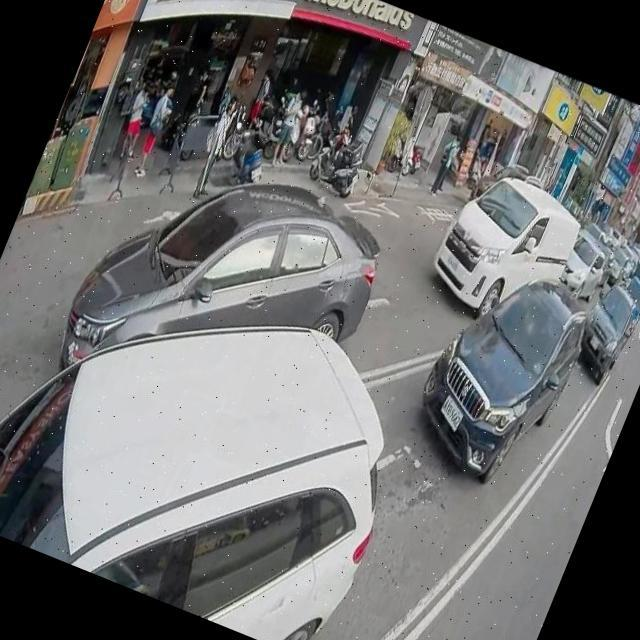person: (102, 70, 164, 184), (183, 98, 241, 204), (126, 78, 182, 182), (264, 83, 310, 169), (426, 127, 464, 195), (242, 72, 276, 130)
